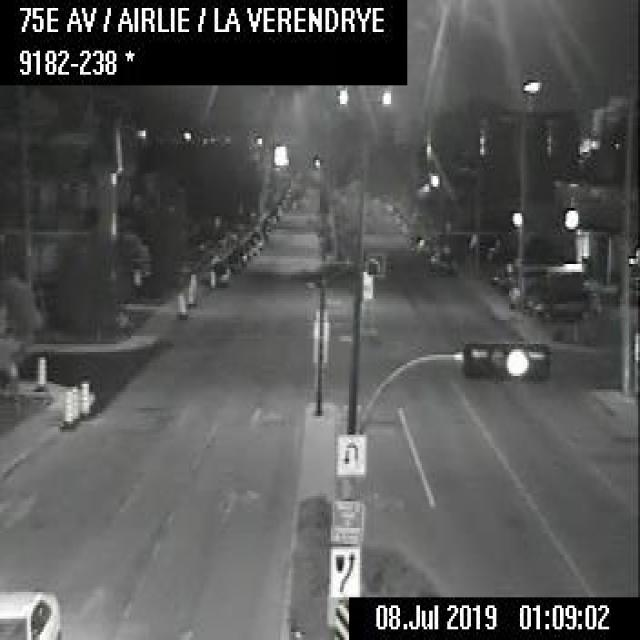construction: (33, 355, 47, 389), (60, 386, 71, 424), (78, 380, 89, 414), (186, 271, 196, 308), (69, 384, 79, 418), (174, 288, 184, 315), (207, 264, 215, 288)
vehicle: (0, 584, 64, 637), (534, 284, 601, 322), (427, 247, 449, 269), (213, 261, 229, 283), (414, 234, 432, 250), (227, 252, 241, 271)
